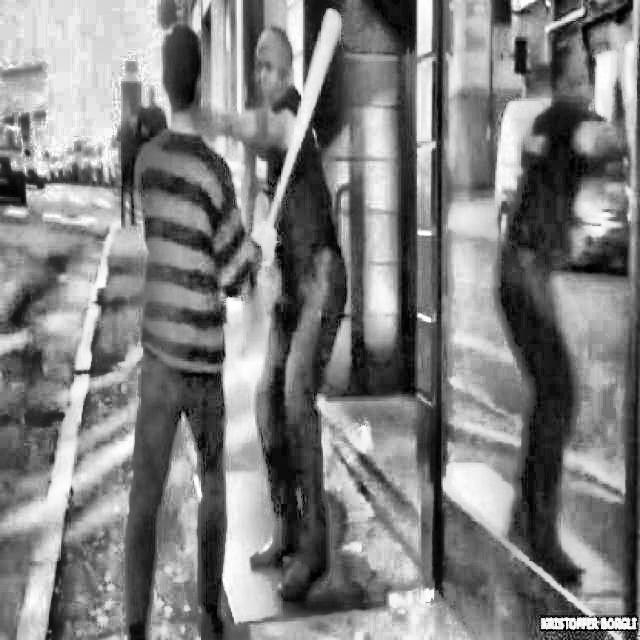tongkat pemukul: (237, 4, 348, 272)
